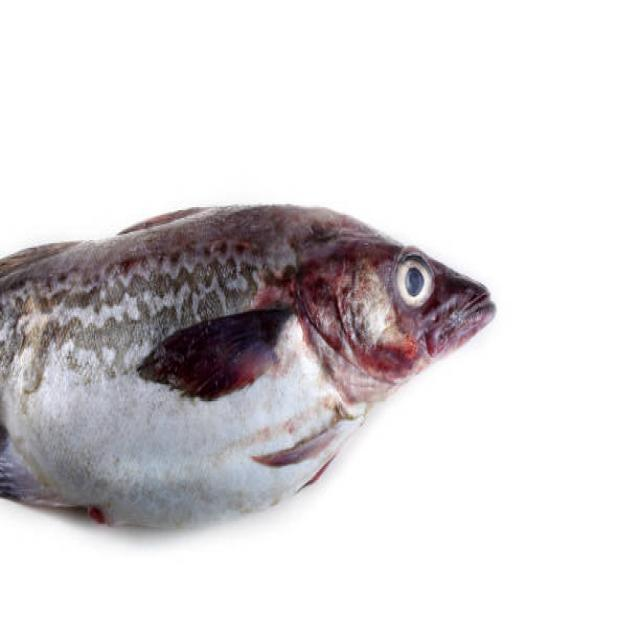EUS Disease: (0, 207, 517, 541)
